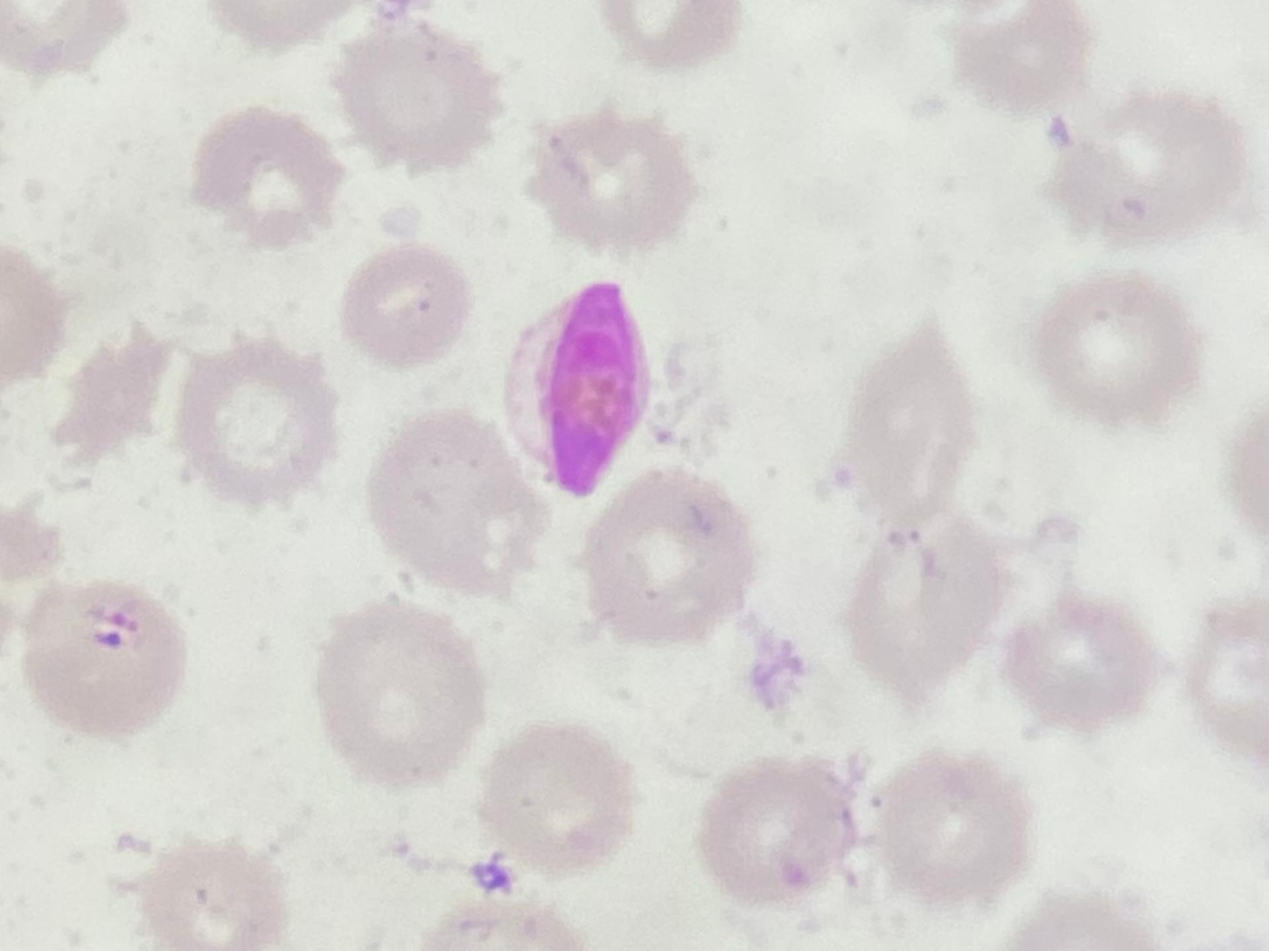Infected: (504, 283, 648, 498), (21, 580, 185, 743)
Uninfected: (372, 412, 546, 591), (317, 607, 485, 792), (1048, 80, 1241, 241), (169, 339, 337, 509), (590, 475, 755, 641), (335, 22, 505, 177), (839, 323, 977, 512), (479, 721, 641, 879), (848, 522, 1001, 689), (1036, 271, 1200, 423), (524, 114, 693, 257), (876, 754, 1032, 898), (699, 759, 853, 901), (1010, 595, 1166, 730), (195, 106, 342, 243), (137, 836, 295, 951), (339, 240, 475, 365)
